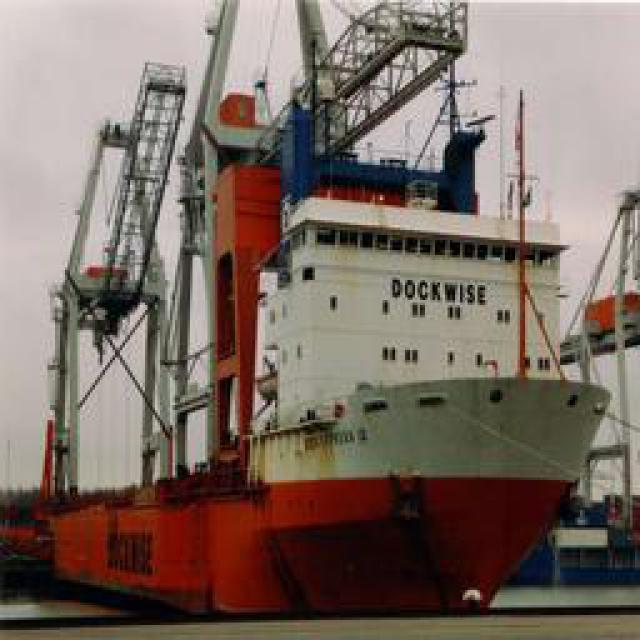Ship: (35, 1, 620, 621)
